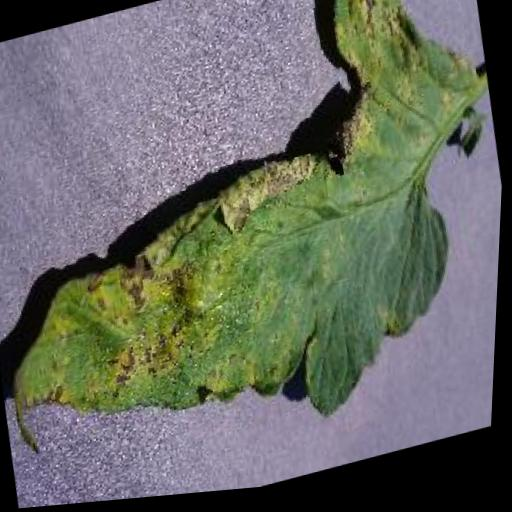Septoria: (0, 0, 512, 498)
